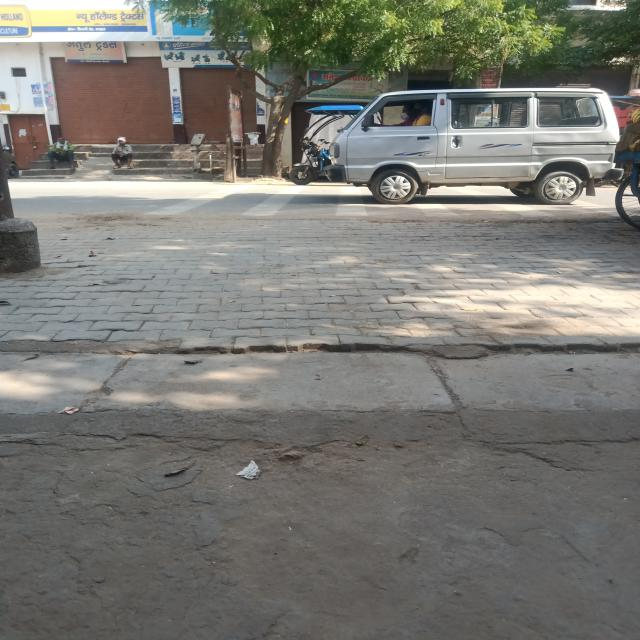Car: (317, 88, 620, 205)
